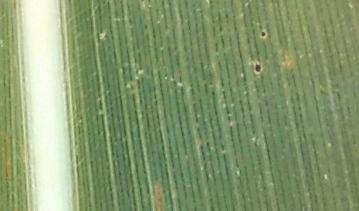tarspot: (254, 63, 262, 73), (260, 31, 267, 38)
